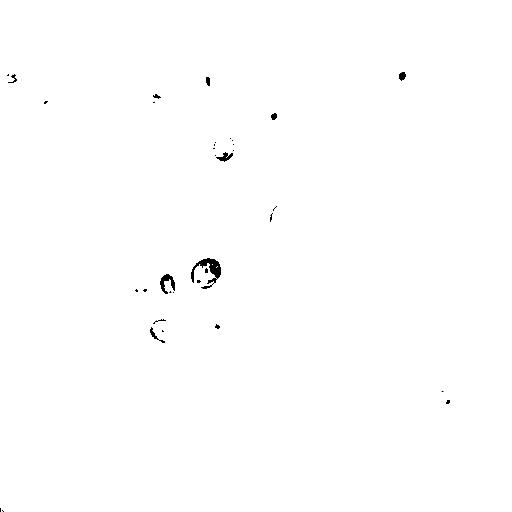micro-algae: (385, 55, 421, 97), (255, 95, 289, 133), (193, 314, 231, 347), (30, 89, 63, 125), (190, 255, 223, 291), (267, 198, 295, 236), (147, 316, 181, 343), (210, 130, 236, 164), (125, 274, 157, 301), (431, 387, 461, 412), (159, 273, 177, 296), (202, 72, 215, 91), (1, 71, 18, 84)
